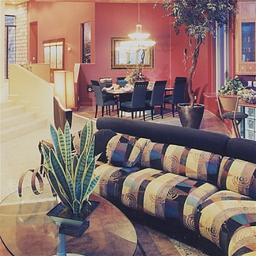Matera: (169, 6, 222, 126)
